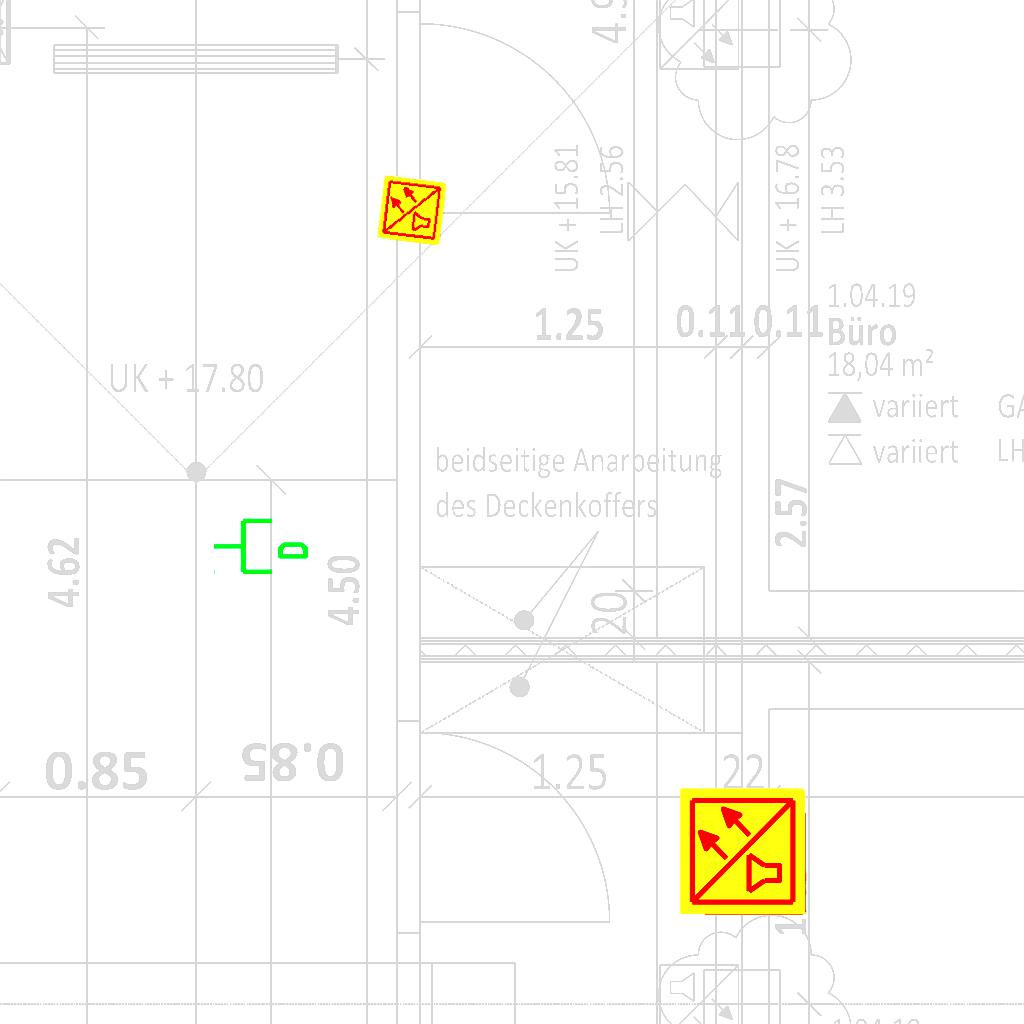Datenanschluss_einfach: (211, 510, 311, 579)
OKW_Multisensormelder_(Kombination_optischer_Rauch-Kahlenmonoxid_Waerme-Melder): (677, 785, 809, 917), (375, 173, 449, 247)
